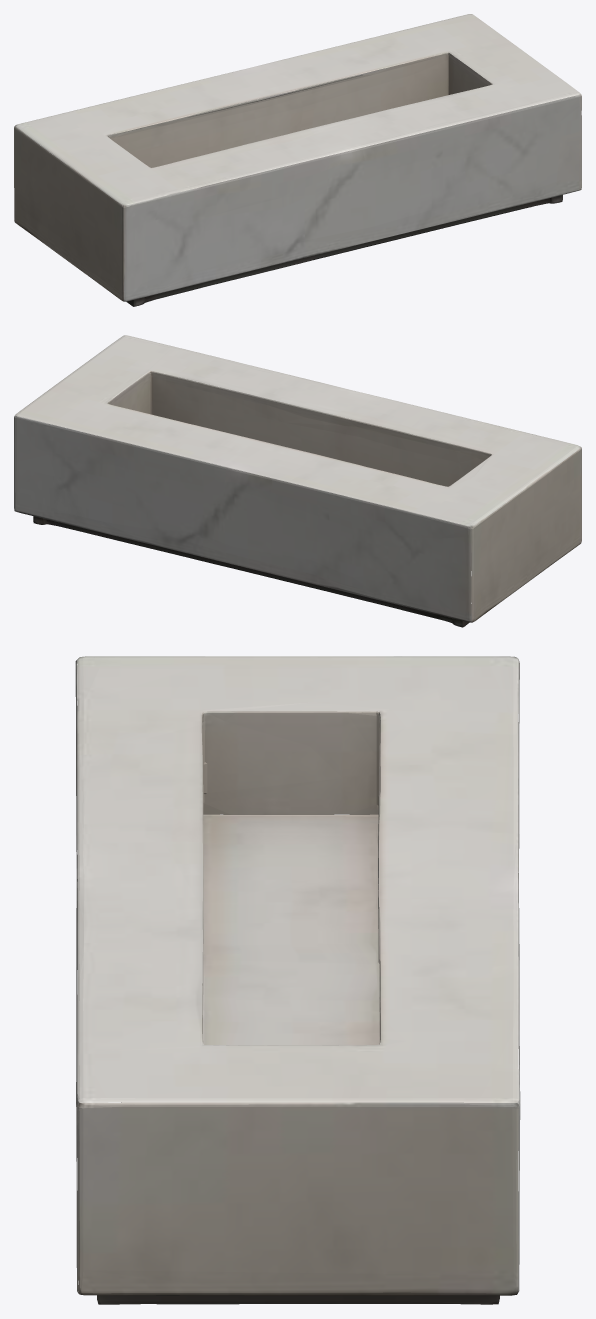
The model's file is x-table-feu.glb.
3 renders of one model, top to bottom at view 1: azimuth 30°, elevation 25°; view 2: azimuth 150°, elevation 25°; view 3: azimuth 270°, elevation 25°, orthographic. The views are drawn at different scales.
Visible parts, largest first — view 1: geometry_0; view 2: geometry_0; view 3: geometry_0.
Boxes of the visible parts, <box> form: geometry_0: <box>14,14,581,306</box>; geometry_0: <box>14,335,581,627</box>; geometry_0: <box>75,656,520,1304</box>.
Size of the model in its own units: 1 by 0.2287 by 0.4191.
1 material, 1 textured.
